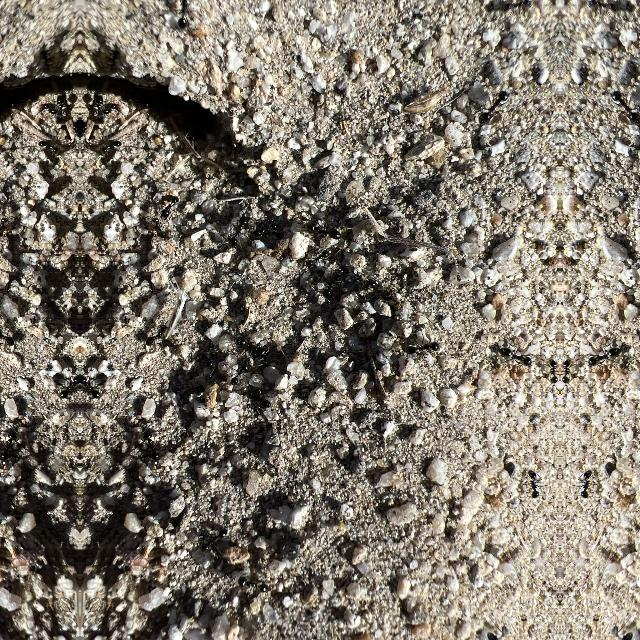Messor: (491, 337, 539, 381), (581, 337, 629, 381), (392, 332, 442, 368), (232, 327, 272, 359), (523, 451, 547, 502), (573, 451, 597, 502), (215, 214, 252, 244), (540, 352, 560, 398), (560, 352, 580, 398), (83, 364, 103, 404), (57, 364, 77, 404), (255, 217, 285, 241), (81, 91, 105, 121), (55, 91, 79, 121), (98, 134, 124, 158), (36, 134, 62, 158), (95, 98, 116, 122), (44, 98, 64, 122), (204, 347, 218, 377), (240, 360, 268, 374)
